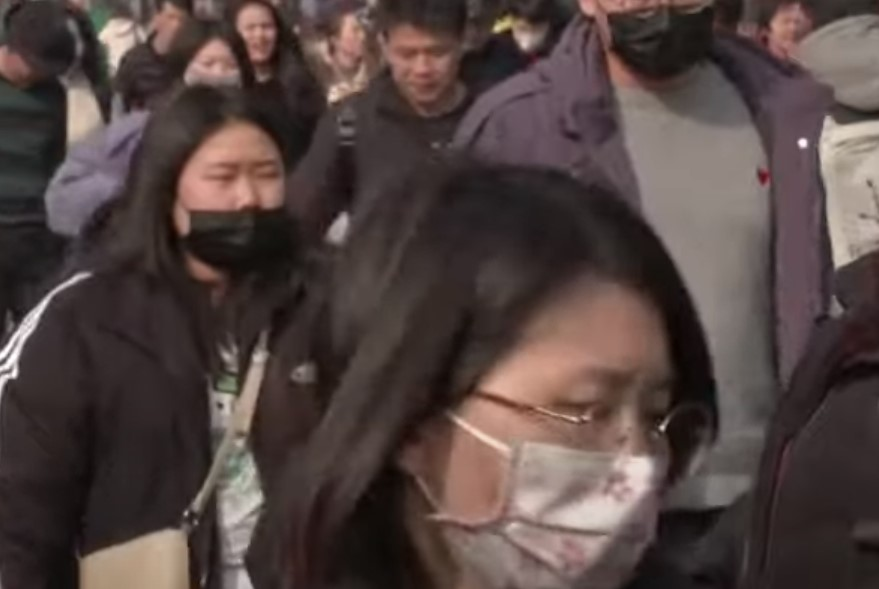face_no_mask: (369, 7, 471, 107), (316, 2, 368, 61), (758, 0, 813, 52), (234, 2, 280, 62)
face_with_mask: (345, 162, 719, 587), (142, 93, 295, 288), (166, 19, 252, 91)
